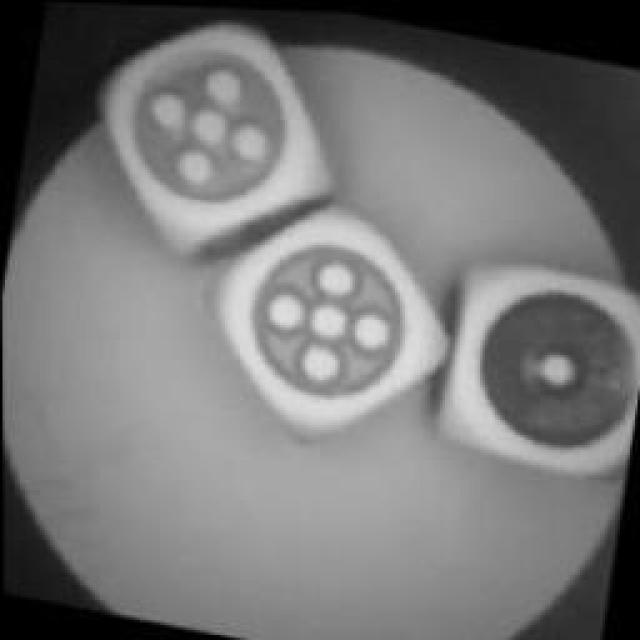dice_1: (440, 245, 640, 485)
dice_5: (94, 2, 328, 250), (227, 203, 435, 435)
